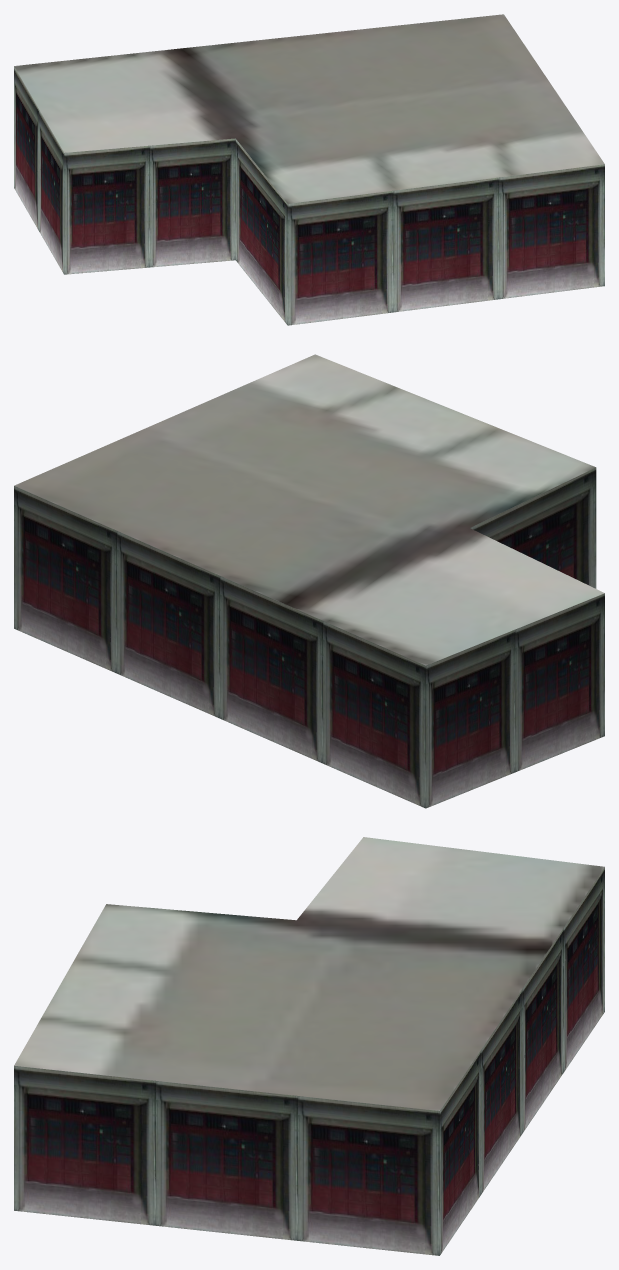
The picture shows the model from 3 angles, top to bottom: view 1: azimuth 30°, elevation 25°; view 2: azimuth 150°, elevation 25°; view 3: azimuth 270°, elevation 25°; orthographic projection. The views are drawn at different scales.
Visible parts, largest first — view 1: SketchUp (×5); view 2: SketchUp (×4); view 3: SketchUp (×3).
Part boxes in pixels (x1,y1,x2,y2): SketchUp (×5): (14, 14, 604, 325); SketchUp (×4): (14, 354, 604, 808); SketchUp (×3): (14, 837, 604, 1255).
Bounding box in the file's own units: 19.97 × 18.21 × 4.93.
2 materials, 2 textured.
